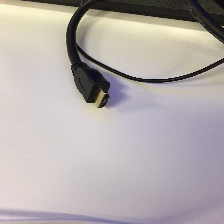hdmi_male: (57, 80, 149, 161)
